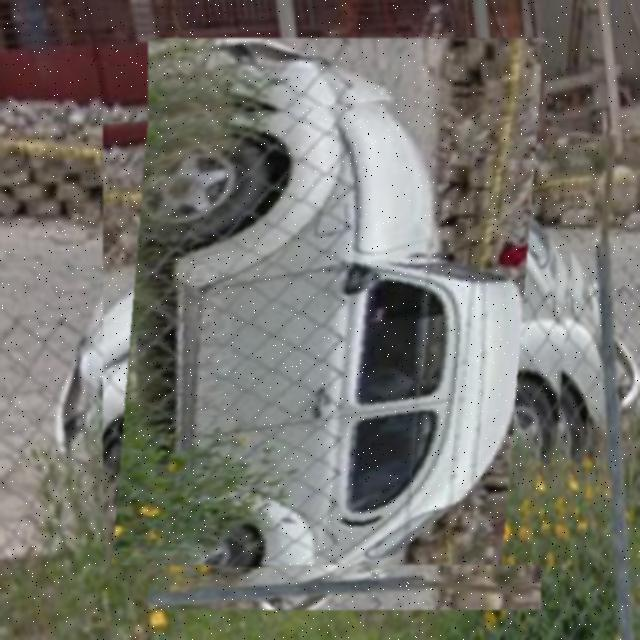car: (104, 83, 587, 566)
